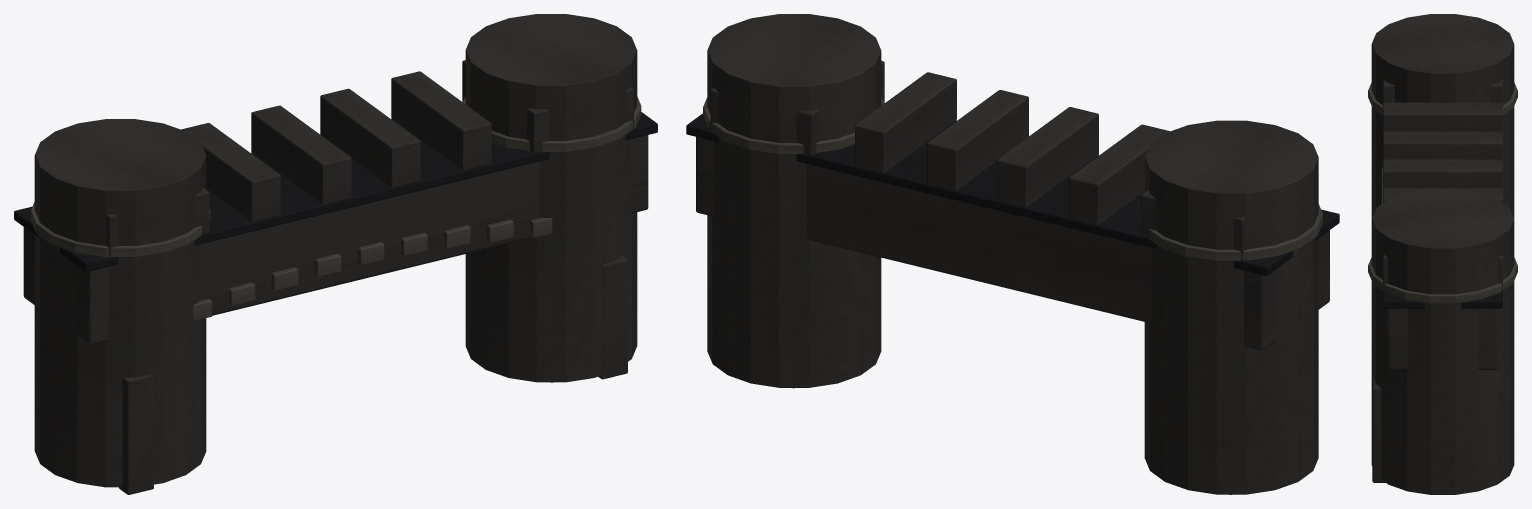
File: prop_town_fortress_gatehouse.glb
3 renders of one model, left to right at view 1: azimuth 30°, elevation 25°; view 2: azimuth 150°, elevation 25°; view 3: azimuth 270°, elevation 25°, orthographic. The views are drawn at different scales.
Parts seen in each view (by area): view 1: stone, slate, mortar; view 2: stone, slate, mortar; view 3: stone, mortar, slate.
Part boxes in pixels (x1=…): stone: x1=23, y1=14, x2=648, y2=494; slate: x1=14, y1=101, x2=657, y2=271; mortar: x1=30, y1=96, x2=641, y2=320; stone: x1=696, y1=14, x2=1329, y2=494; slate: x1=686, y1=103, x2=1339, y2=275; mortar: x1=703, y1=97, x2=1322, y2=260; stone: x1=1371, y1=14, x2=1514, y2=494; mortar: x1=1368, y1=82, x2=1517, y2=303; slate: x1=1383, y1=291, x2=1502, y2=308.
Bounding box in the file's own units: 27.13 × 13.4 × 7.24.
Materials: 4 (4 with a texture image).
